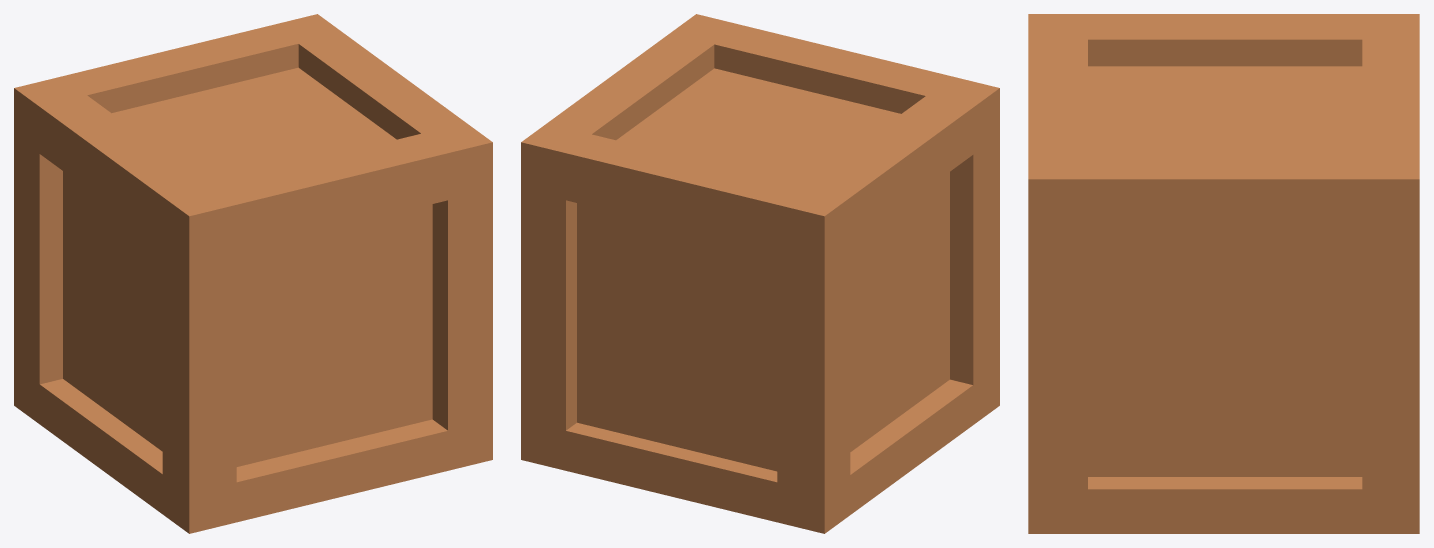
File: delivery_box.glb
The picture shows the model from 3 angles, left to right: view 1: azimuth 30°, elevation 25°; view 2: azimuth 150°, elevation 25°; view 3: azimuth 270°, elevation 25°; orthographic projection. The views are drawn at different scales.
Visible parts, largest first — view 1: Cube; view 2: Cube; view 3: Cube.
Part boxes in pixels (box(x1,y1,x2,y2)): Cube: box(14, 14, 492, 533); Cube: box(521, 14, 999, 533); Cube: box(1028, 14, 1419, 533).
Size of the model in its own units: 2 by 2 by 2.
